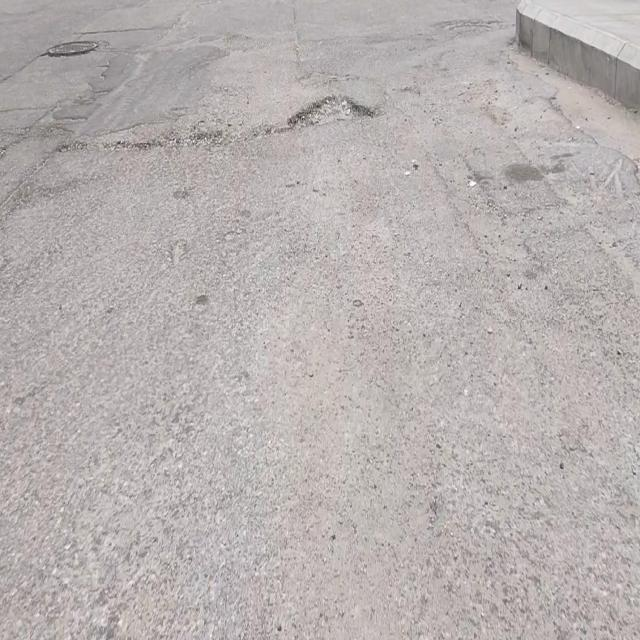Potholes: (287, 90, 376, 132)
